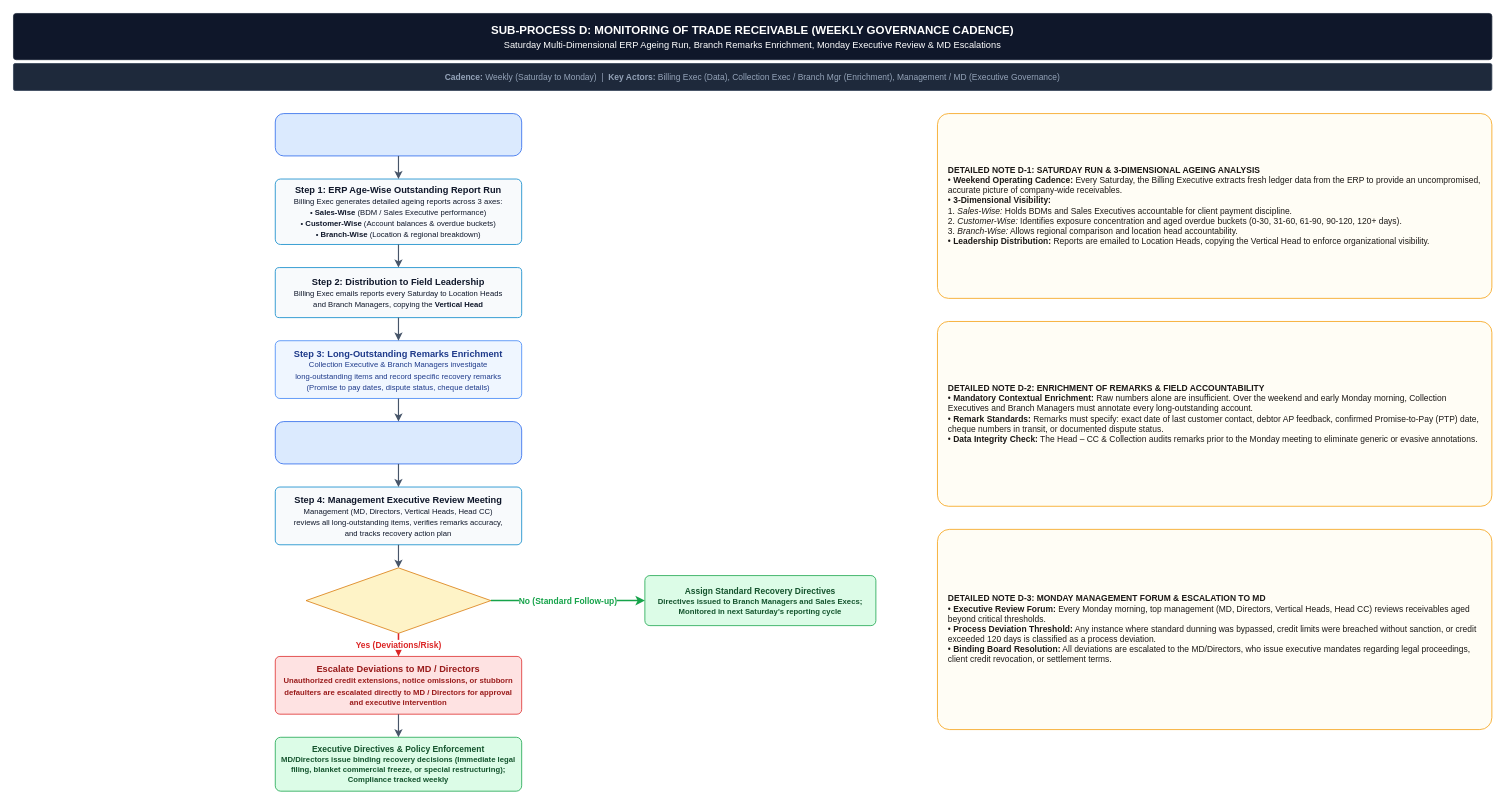
Image size: 1505x805. Some labels were removed from this diagram. The shapes that lost their labels are listed below. From the top down, each one's box as (x1, y1, x2, y2) in pixels, then its label:
(275, 113, 522, 156): Periodic Trigger: Every Saturday Weekly financial reporting rhythm initiates
(275, 421, 522, 464): Periodic Trigger: Every Monday Weekly executive review meeting convenes
(305, 567, 491, 633): Are Process Deviations or High-Risk Debts Identified?
